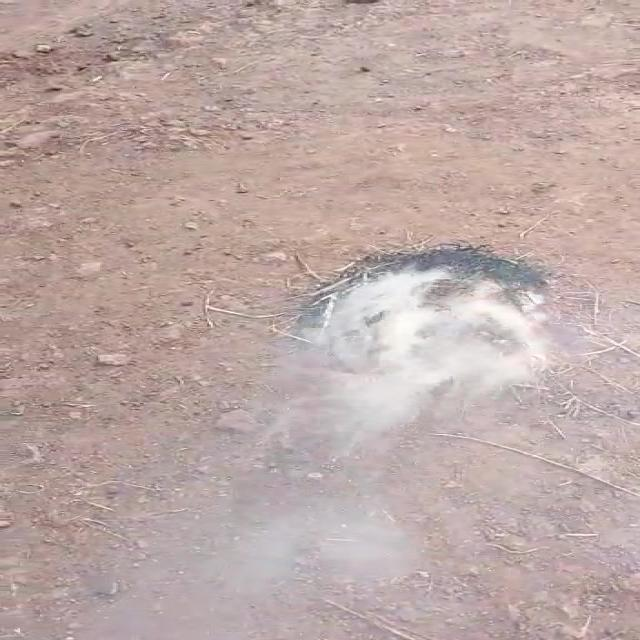Smoke: (315, 259, 521, 629)
